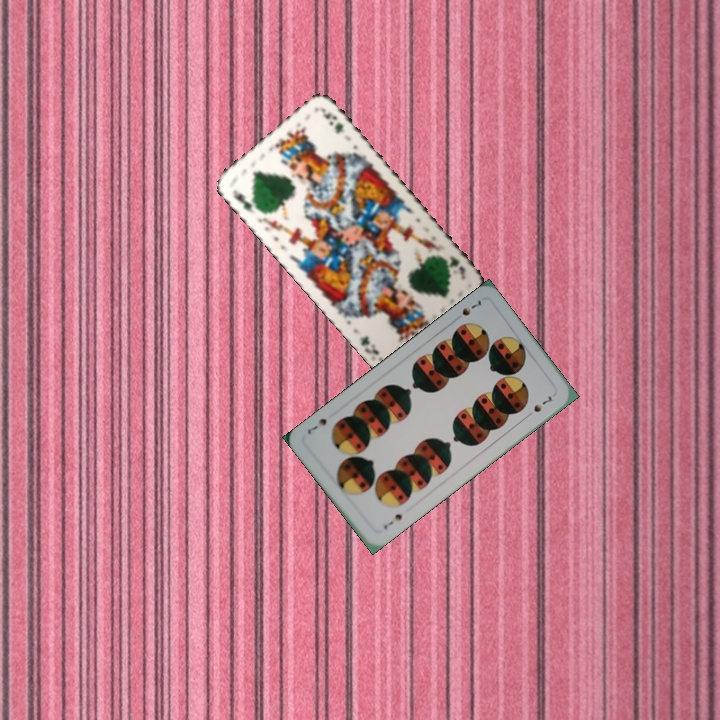GK: (228, 186, 257, 216), (440, 252, 468, 282)
S7: (450, 296, 484, 324), (379, 510, 405, 532)
